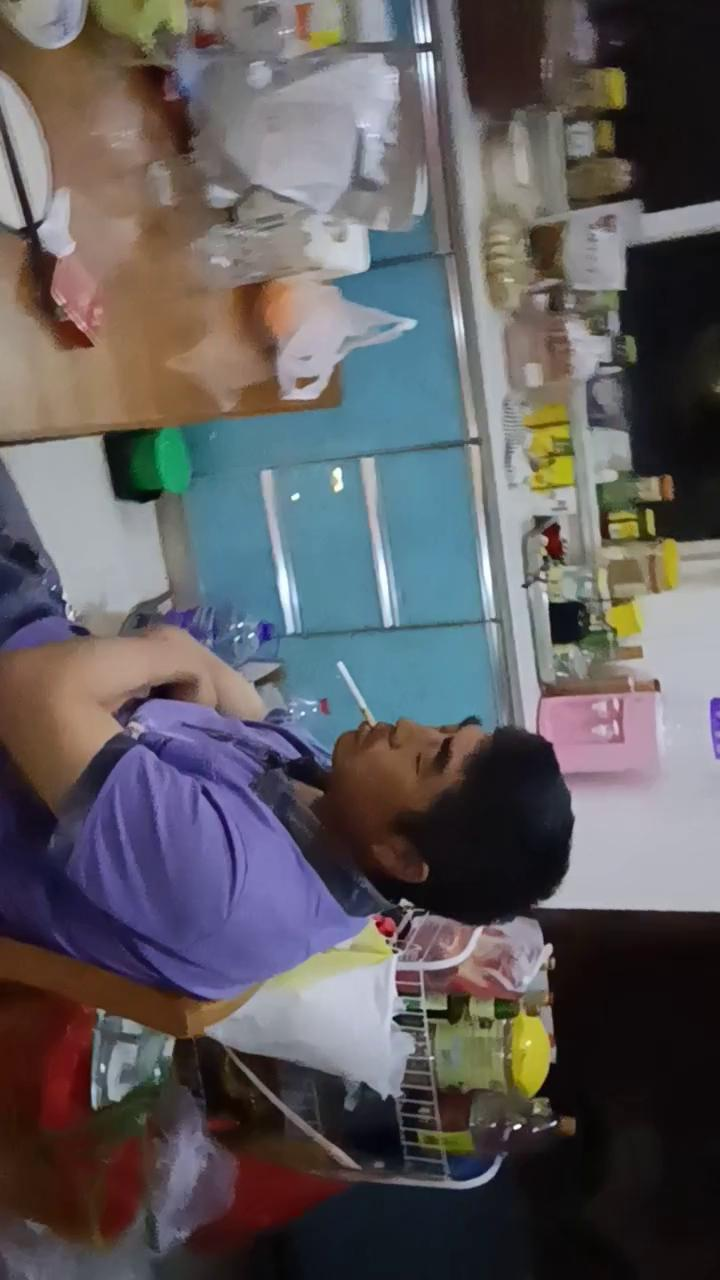smoke: (338, 660, 376, 729)
